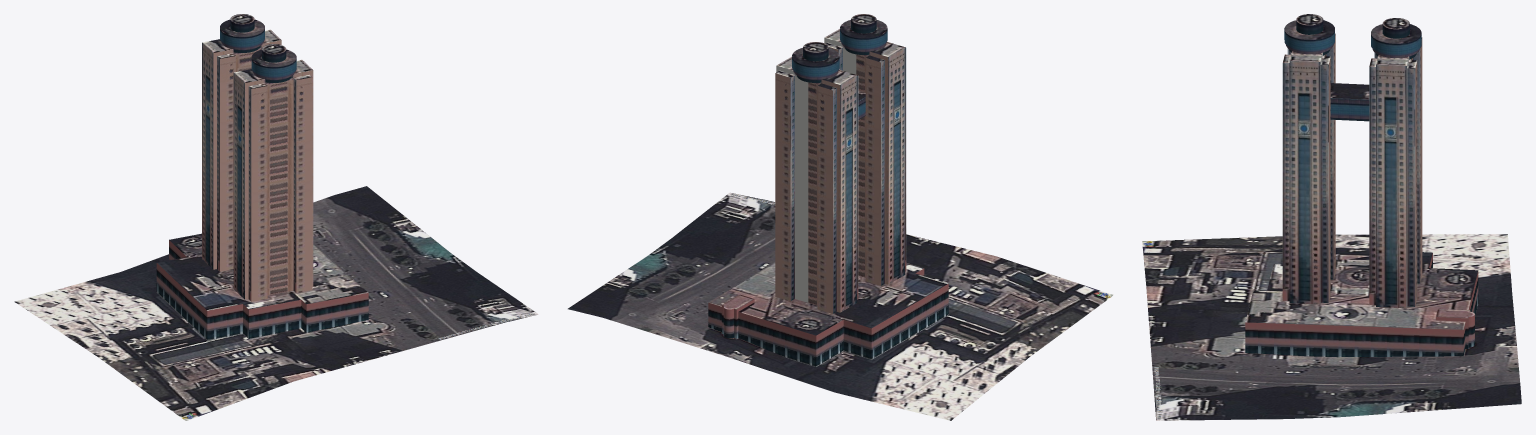
Rendered from Sans-titre.fbx.
3 renders of one model, left to right at view 1: azimuth 30°, elevation 25°; view 2: azimuth 150°, elevation 25°; view 3: azimuth 270°, elevation 25°, orthographic. The views are drawn at different scales.
Parts seen in each view (by area): view 1: Google_Earth_Terrain, Model; view 2: Model, Google_Earth_Terrain; view 3: Model, Google_Earth_Terrain.
Part boxes in pixels (left/top/right/bottom): Google_Earth_Terrain: left=14, top=186, right=538, bottom=420; Model: left=156, top=14, right=368, bottom=340; Model: left=708, top=14, right=948, bottom=366; Google_Earth_Terrain: left=568, top=192, right=1113, bottom=420; Model: left=1245, top=14, right=1478, bottom=357; Google_Earth_Terrain: left=1142, top=234, right=1521, bottom=420.
Bounding box in the file's own units: 201 × 145 × 161.
